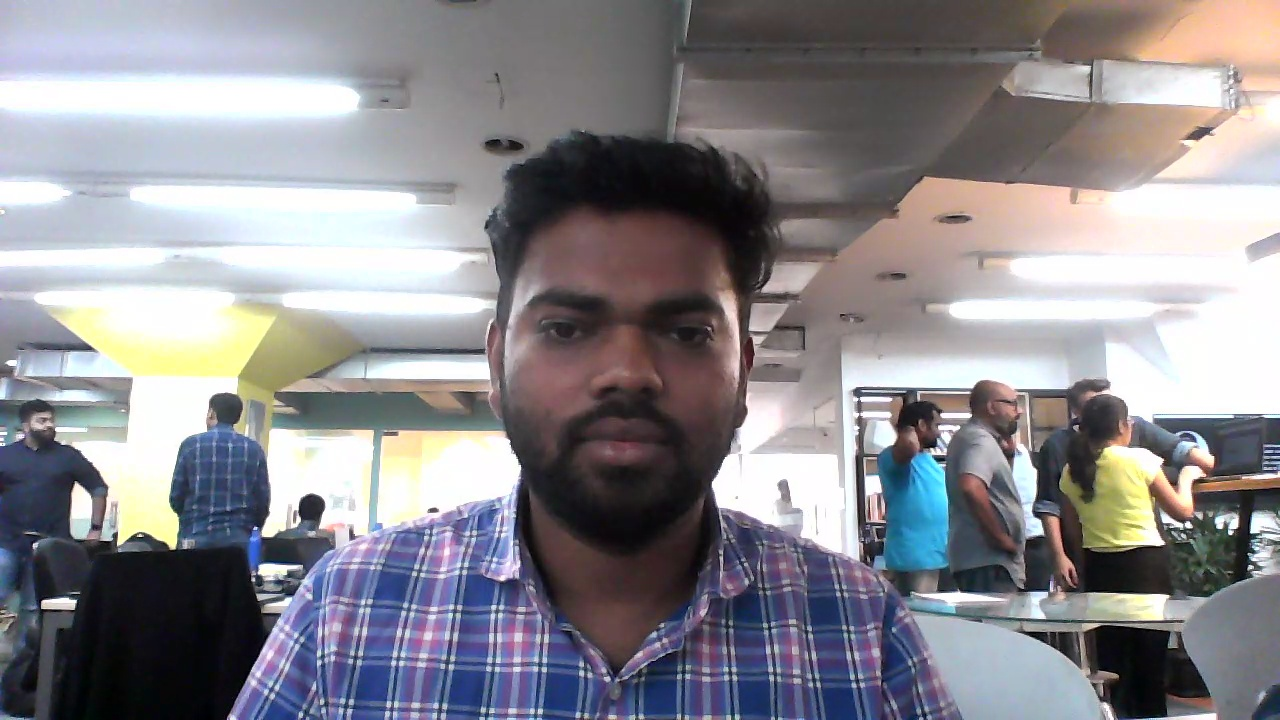open: (484, 130, 778, 552)
